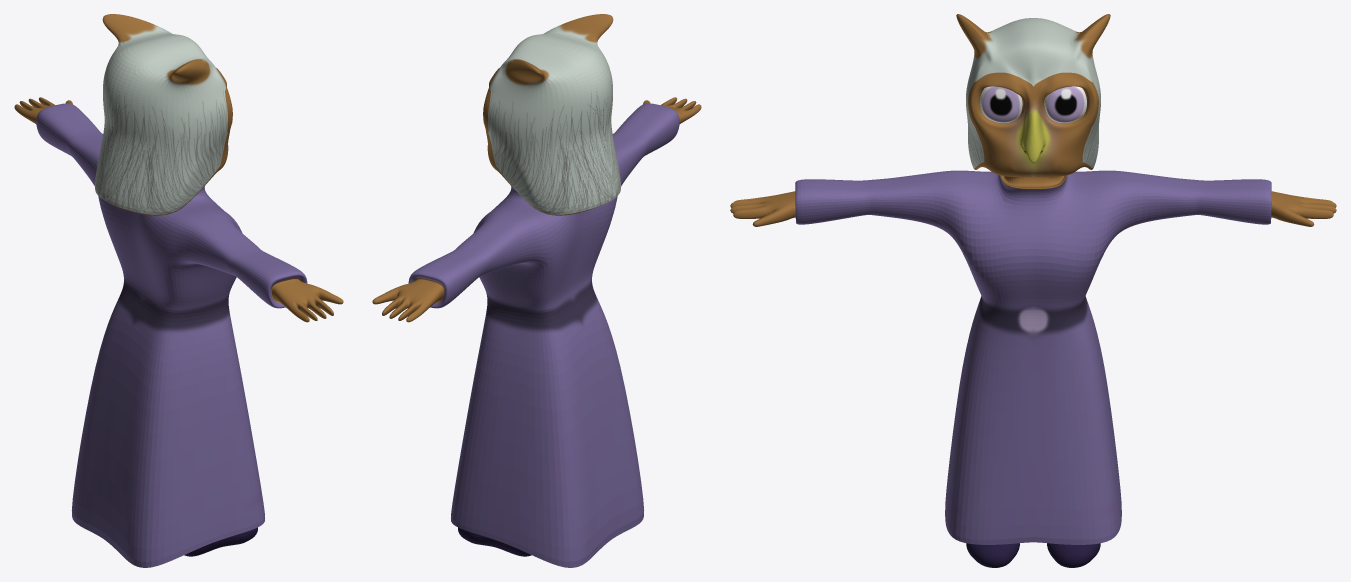
The model's file is NPC2.fbx.
The picture shows the model from 3 angles, left to right: view 1: azimuth 30°, elevation 25°; view 2: azimuth 150°, elevation 25°; view 3: azimuth 270°, elevation 25°; orthographic projection. The views are drawn at different scales.
Parts seen in each view (by area): view 1: NPC2; view 2: NPC2; view 3: NPC2.
Boxes of the visible parts, box(x1,y1,x2,y2) form: NPC2: box(14, 14, 343, 567); NPC2: box(372, 14, 701, 567); NPC2: box(730, 14, 1336, 567).
Bounding box in the file's own units: 59.62 × 209 × 223.
Materials: 1 (1 with a texture image).
